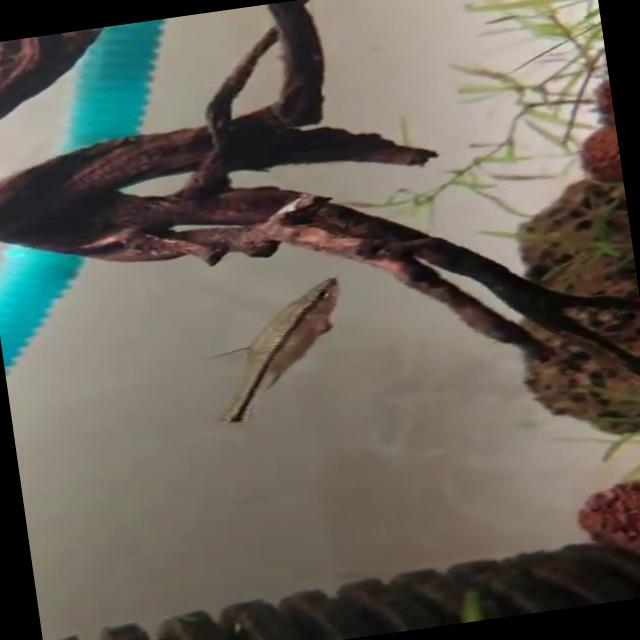Cakil Baligi: (182, 274, 356, 426)
